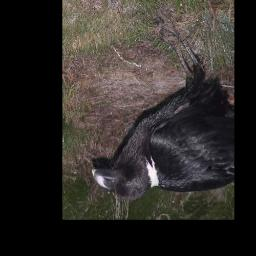Crow: (91, 7, 234, 201)
